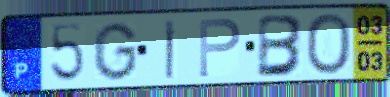5: (47, 21, 87, 85)
B: (255, 13, 307, 80)
G: (91, 20, 139, 83)
I: (163, 18, 178, 82)
O: (304, 11, 354, 77)
P: (197, 16, 244, 79)
